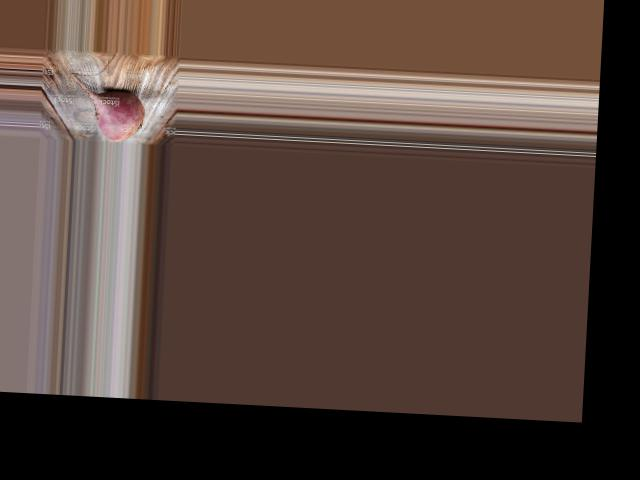beet: (67, 73, 146, 142)
